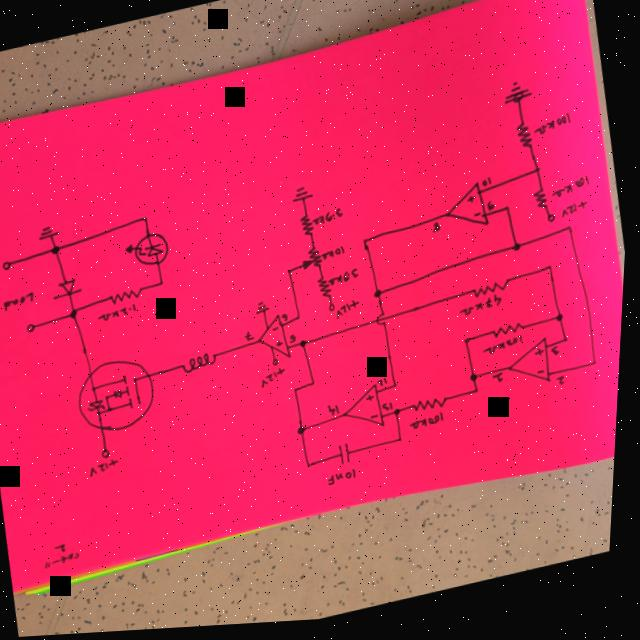capacitor: (341, 445, 360, 473)
crossover: (378, 316, 391, 332)
diode: (125, 231, 175, 275), (53, 277, 88, 302)
ground: (500, 83, 537, 113), (38, 222, 65, 243), (291, 187, 317, 208), (257, 302, 275, 318)
inductor: (184, 353, 223, 378)
junction: (70, 307, 85, 322), (51, 244, 67, 258), (301, 341, 314, 354), (471, 377, 484, 390), (375, 292, 388, 305), (563, 341, 576, 354), (557, 318, 570, 330), (363, 242, 374, 256), (300, 428, 312, 440), (396, 411, 408, 423), (505, 209, 516, 220), (143, 215, 152, 226), (288, 270, 297, 280), (515, 249, 524, 259), (160, 281, 169, 291), (595, 366, 604, 376), (536, 172, 545, 181), (466, 342, 475, 351), (309, 464, 318, 473), (568, 231, 577, 240), (298, 316, 307, 325), (313, 383, 322, 392), (401, 440, 410, 449), (476, 393, 486, 401), (550, 270, 558, 279), (296, 390, 305, 398), (396, 387, 403, 395)
resistor: (415, 398, 454, 422), (109, 287, 148, 309), (475, 284, 514, 304), (515, 126, 538, 159), (302, 249, 328, 275), (494, 327, 529, 346), (318, 278, 338, 304), (301, 216, 320, 242), (534, 194, 552, 218)
terminal: (2, 259, 18, 273), (103, 449, 119, 462), (28, 323, 43, 336), (548, 218, 560, 231), (275, 361, 284, 370), (331, 307, 340, 316)
text: (533, 118, 577, 145), (461, 299, 508, 324), (552, 181, 595, 207), (98, 303, 145, 326), (484, 340, 529, 363), (4, 291, 41, 313), (413, 417, 452, 437), (262, 369, 293, 393), (313, 210, 348, 231), (92, 459, 127, 479), (329, 271, 364, 291), (330, 471, 363, 492), (561, 205, 594, 226), (337, 302, 366, 325), (323, 249, 349, 265), (331, 406, 345, 422), (481, 181, 498, 194), (246, 332, 260, 347), (559, 381, 573, 395), (385, 404, 399, 418), (432, 226, 446, 240), (495, 378, 510, 391), (553, 351, 567, 364), (381, 381, 394, 394), (291, 336, 303, 349), (488, 205, 500, 218), (284, 315, 293, 327)
transistor: (75, 354, 166, 443)
